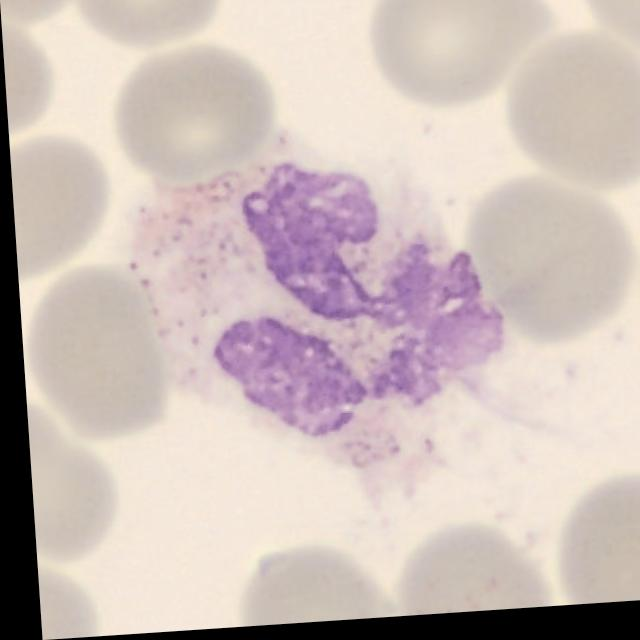Neutrofilo segmentado: (124, 135, 499, 444)
